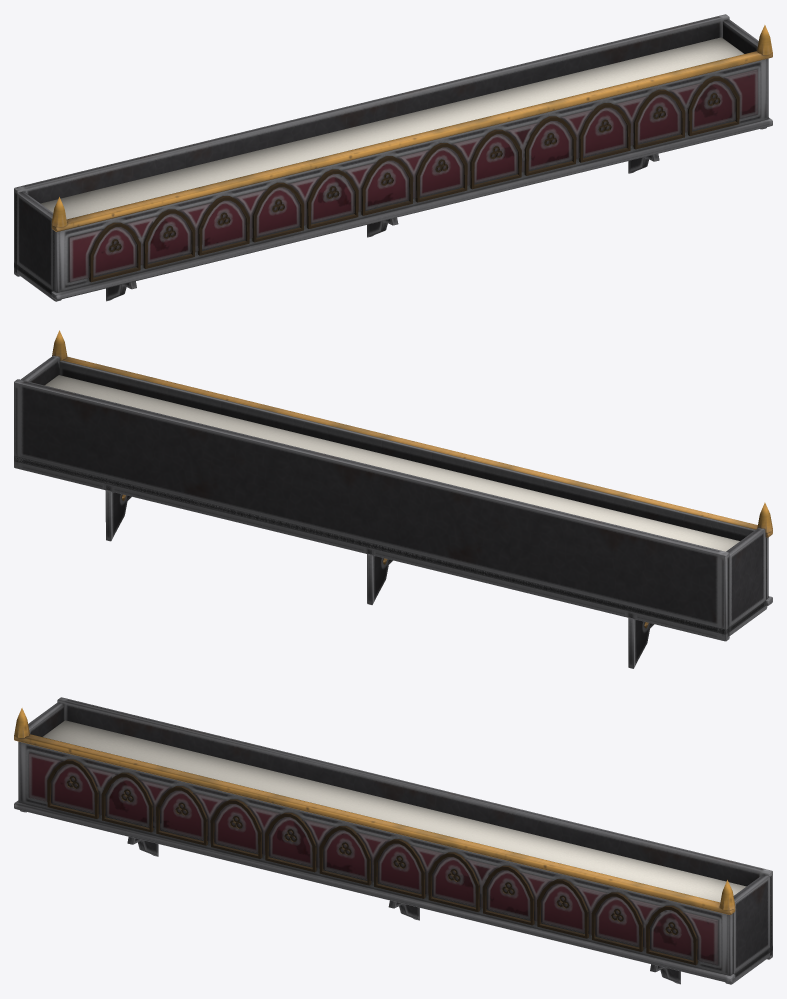
File: CorridorUplighter.fbx
The picture shows the model from 3 angles, top to bottom: view 1: azimuth 30°, elevation 25°; view 2: azimuth 150°, elevation 25°; view 3: azimuth 330°, elevation 25°; orthographic projection.
Parts seen in each view (by area): view 1: CorridorUplighter_Main, CorridorUplighter_Glow; view 2: CorridorUplighter_Main, CorridorUplighter_Glow; view 3: CorridorUplighter_Main, CorridorUplighter_Glow.
Boxes of the visible parts, bbox=[...] form: CorridorUplighter_Main: bbox=[14, 14, 772, 301]; CorridorUplighter_Glow: bbox=[40, 37, 743, 219]; CorridorUplighter_Main: bbox=[14, 330, 772, 668]; CorridorUplighter_Glow: bbox=[44, 375, 739, 551]; CorridorUplighter_Main: bbox=[14, 697, 772, 984]; CorridorUplighter_Glow: bbox=[43, 720, 746, 902].
Size of the model in its own units: 606 by 127 by 68.
